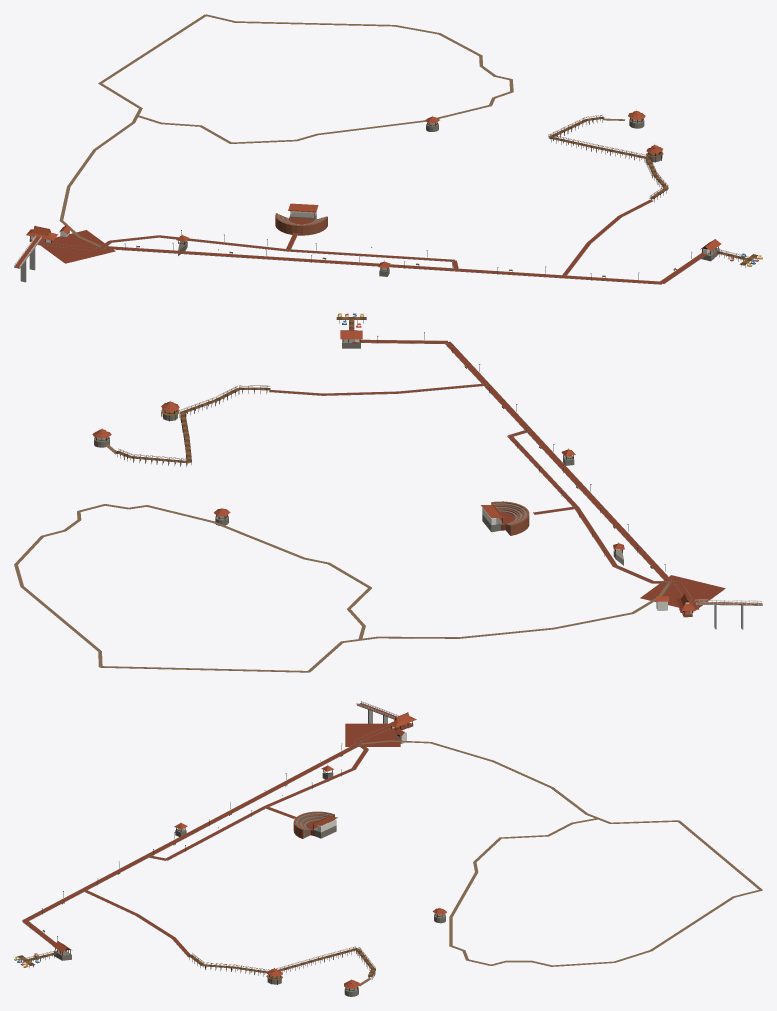
Rendered from sarovaram.glb.
The picture shows the model from 3 angles, top to bottom: view 1: azimuth 30°, elevation 25°; view 2: azimuth 150°, elevation 25°; view 3: azimuth 270°, elevation 25°; orthographic projection. The views are drawn at different scales.
Parts seen in each view (by area): view 1: sarovaram; view 2: sarovaram; view 3: sarovaram.
Part boxes in pixels (x1,y1,x2,y2): sarovaram: [14, 14, 762, 284]; sarovaram: [14, 313, 762, 672]; sarovaram: [14, 701, 762, 996].
Size of the model in its own units: 372 by 19.85 by 408.
